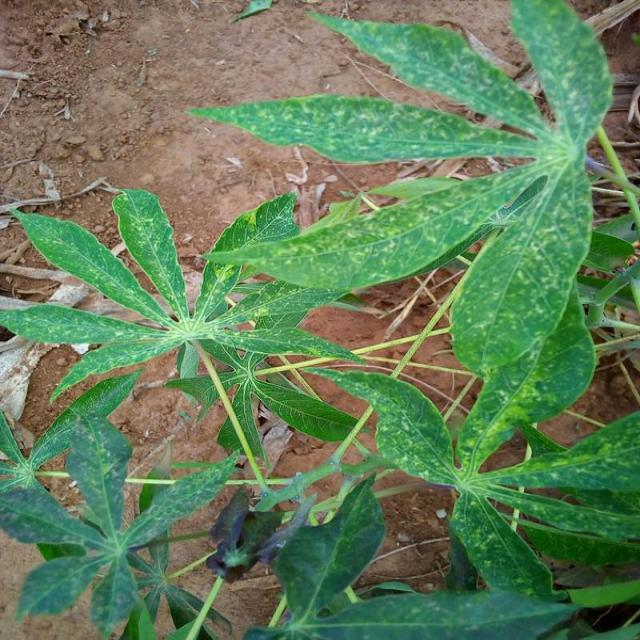cassava leaf: (1, 1, 636, 636), (186, 91, 540, 165)
